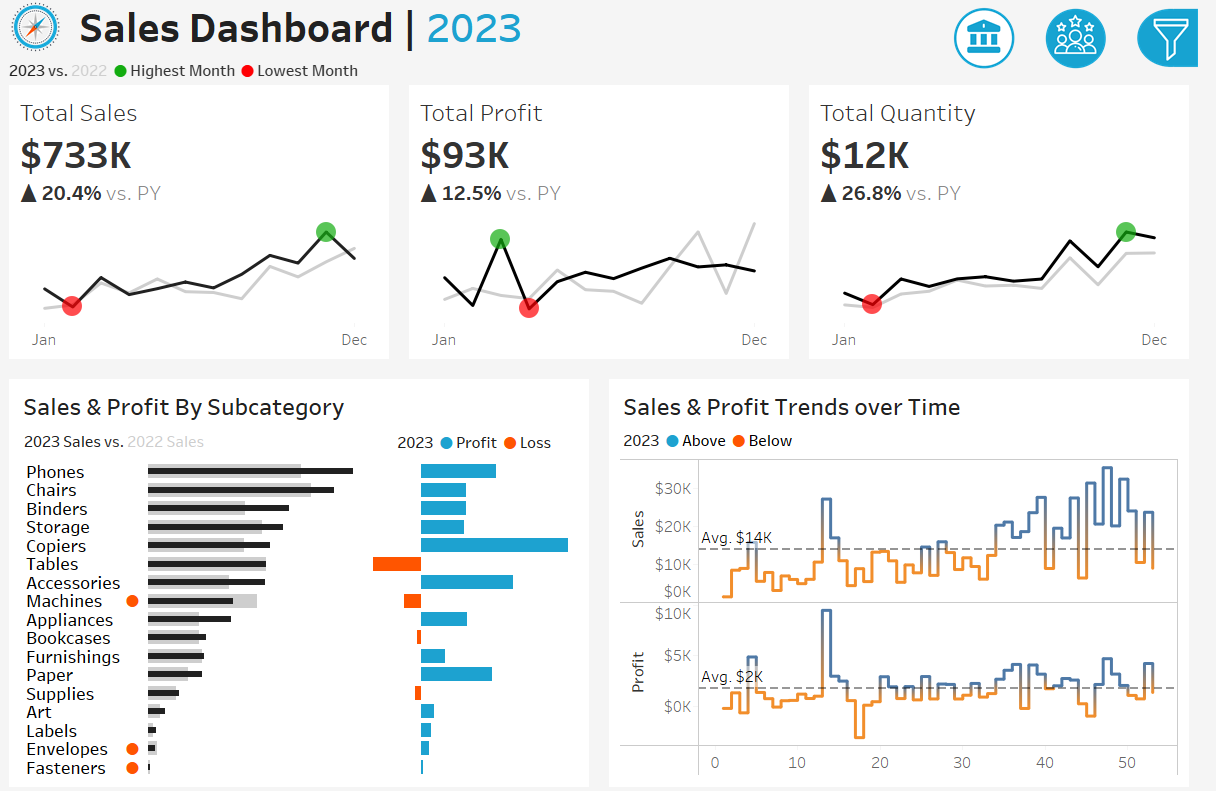

Layout of this report page (visuals, bound fields, positions):
{"tool":"tableau","page":{"name":"Sales Dashboard","canvas":[1200,800],"ordinal":1},"visuals":[{"type":"image","param":"Image/Icon - Logo.png","box":[0,0,73,59]},{"type":"text","box":[73,0,820,59]},{"type":"dashboard-object","box":[940,6,91,70]},{"type":"dashboard-object","box":[1031,6,91,70]},{"type":"blank","box":[952,10,237,86]},{"type":"worksheet","title":"Legend KPI","mark":"Automatic","box":[0,59,1200,29]},{"type":"worksheet","title":"KPI Sales","mark":"Automatic","rows":["Calculation_721701895347843083"],"cols":["Order Date"],"box":[0,88,400,284]},{"type":"worksheet","title":"KPI Profit","mark":"Automatic","rows":["Min/Max Sales (copy)_237846410425847814"],"cols":["Order Date"],"box":[400,88,400,284]},{"type":"worksheet","title":"KPI Quantity","mark":"Automatic","rows":["Min/Max Sales (copy) (copy)_237846410425856007"],"cols":["Order Date"],"box":[800,88,400,284]},{"type":"text","box":[952,96,237,37]},{"type":"parameter","param":"[Parameters].[Parameter 1]","box":[952,133,237,55]},{"type":"text","box":[952,188,237,32]},{"type":"filter","title":"KPI Sales","param":"[federated.1kpxa041aiai2y1cl4pui1t4eju9].[none:Category:nk]","box":[952,220,237,57]},{"type":"filter","title":"KPI Sales","param":"[federated.1kpxa041aiai2y1cl4pui1t4eju9].[none:Sub-Category:nk]","box":[952,277,237,57]},{"type":"blank","box":[952,334,237,60]},{"type":"text","box":[17,389,566,40]},{"type":"text","box":[617,389,566,40]},{"type":"text","box":[952,394,237,32]},{"type":"filter","title":"KPI Sales","param":"[federated.1kpxa041aiai2y1cl4pui1t4eju9].[none:Region:nk]","box":[952,426,237,57]},{"type":"worksheet","title":"Legend Subcategory","mark":"Automatic","box":[17,429,374,32]},{"type":"text","box":[391,429,192,32]},{"type":"text","box":[617,429,566,29]},{"type":"worksheet","title":"Weekly Trends","mark":"Automatic","rows":["Calculation_721701895334993921","CY Sales (copy)_237846410424180736"],"cols":["Order Date"],"box":[617,458,566,325]},{"type":"worksheet","title":"Subcategory Comparison","mark":"Bar","rows":["Sub-Category","Calculation_2435040078806671369"],"cols":["CY Sales (copy)_721701895335804930","Calculation_721701895334993921","CY Sales (copy)_237846410424180736"],"box":[17,461,566,321.9]},{"type":"filter","title":"KPI Sales","param":"[federated.1kpxa041aiai2y1cl4pui1t4eju9].[none:State:nk]","box":[952,483,237,57]},{"type":"filter","title":"KPI Sales","param":"[federated.1kpxa041aiai2y1cl4pui1t4eju9].[none:City:nk]","box":[952,540,237,57]}]}

Visuals, with their boxes in screenshot pixels (x1, y1, x2, y2), scaled from the page's 1200x800 canvas onto the 1216x791 screenshot:
image: bbox(0, 0, 74, 58)
text: bbox(74, 0, 905, 58)
dashboard-object: bbox(953, 6, 1045, 75)
dashboard-object: bbox(1045, 6, 1137, 75)
blank: bbox(965, 10, 1205, 95)
"Legend KPI" worksheet: bbox(0, 58, 1215, 87)
"KPI Sales" worksheet: bbox(0, 87, 405, 368)
"KPI Profit" worksheet: bbox(405, 87, 811, 368)
"KPI Quantity" worksheet: bbox(811, 87, 1215, 368)
text: bbox(965, 95, 1205, 132)
parameter: bbox(965, 132, 1205, 186)
text: bbox(965, 186, 1205, 218)
"KPI Sales" filter: bbox(965, 218, 1205, 274)
"KPI Sales" filter: bbox(965, 274, 1205, 330)
blank: bbox(965, 330, 1205, 390)
text: bbox(17, 385, 591, 424)
text: bbox(625, 385, 1199, 424)
text: bbox(965, 390, 1205, 421)
"KPI Sales" filter: bbox(965, 421, 1205, 478)
"Legend Subcategory" worksheet: bbox(17, 424, 396, 456)
text: bbox(396, 424, 591, 456)
text: bbox(625, 424, 1199, 453)
"Weekly Trends" worksheet: bbox(625, 453, 1199, 774)
"Subcategory Comparison" worksheet (Bar marks): bbox(17, 456, 591, 774)
"KPI Sales" filter: bbox(965, 478, 1205, 534)
"KPI Sales" filter: bbox(965, 534, 1205, 590)
